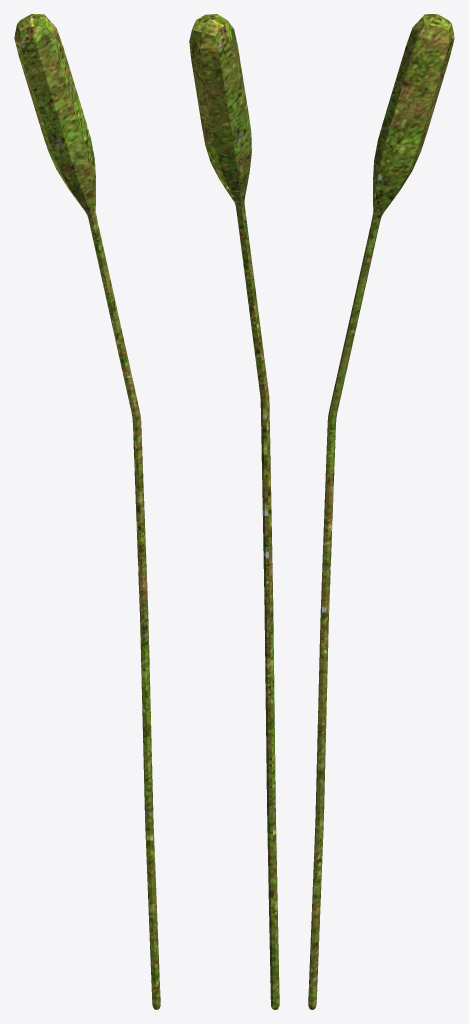
The model's file is gras1.fbx.
The picture shows the model from 3 angles, left to right: view 1: azimuth 90°, elevation 25°; view 2: azimuth 150°, elevation 25°; view 3: azimuth 270°, elevation 25°; orthographic projection. The views are drawn at different scales.
Visible parts, largest first — view 1: Trava3; view 2: Trava3; view 3: Trava3.
Part boxes in pixels (<box>): Trava3: <box>14,14,160,1009</box>; Trava3: <box>189,14,279,1009</box>; Trava3: <box>308,14,454,1009</box>.
Size of the model in its own units: 109 by 2577 by 344.
